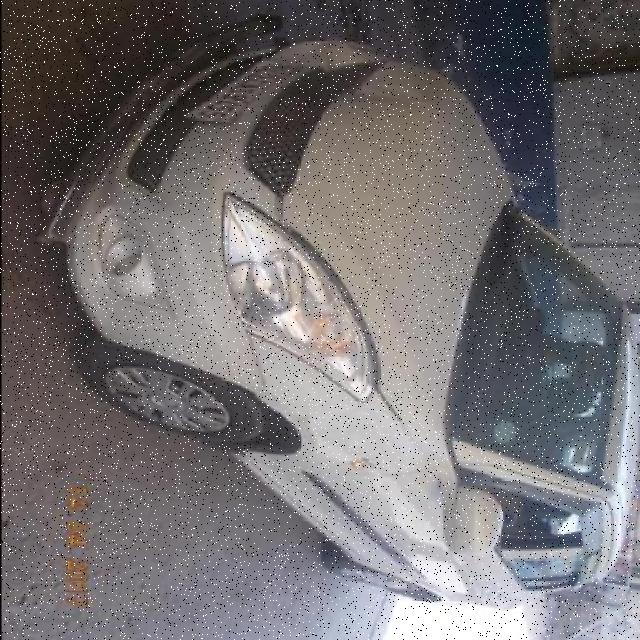damage: (331, 75, 428, 114)
